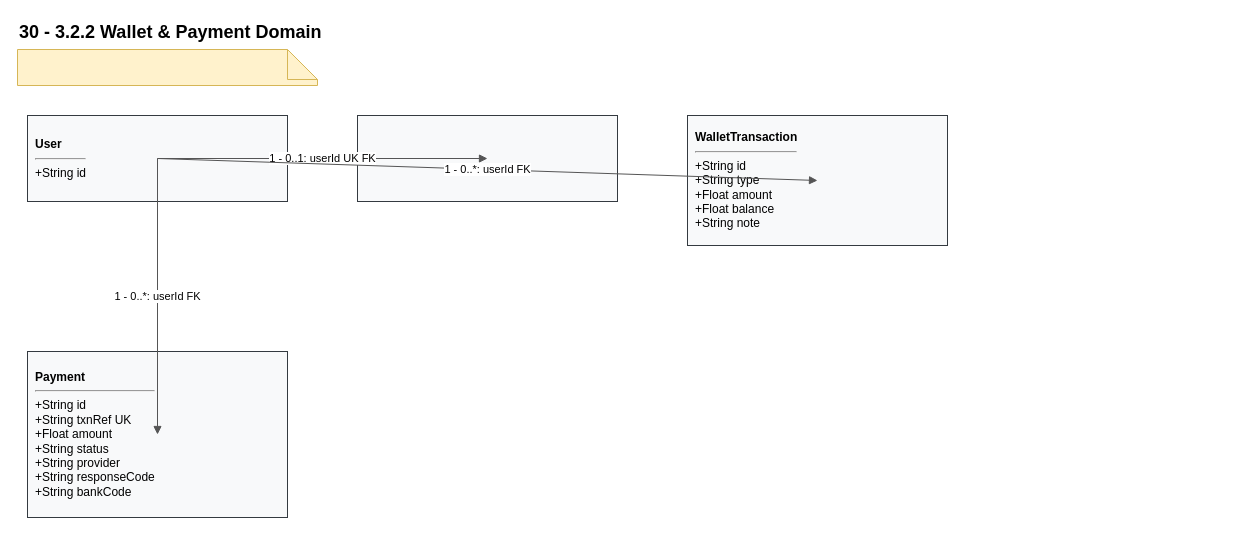
This 1235x535 diagram has some shape labels left out. Here are the shapes that lost their labels. From the top down, the centre of each, then its label:
At [167,67]: "Mermaid classDiagram source: PHAN_TICH_THIET_KE_HE_THONG.md:1911".
At [487,158]: "Wallet +String id +Float balance".
